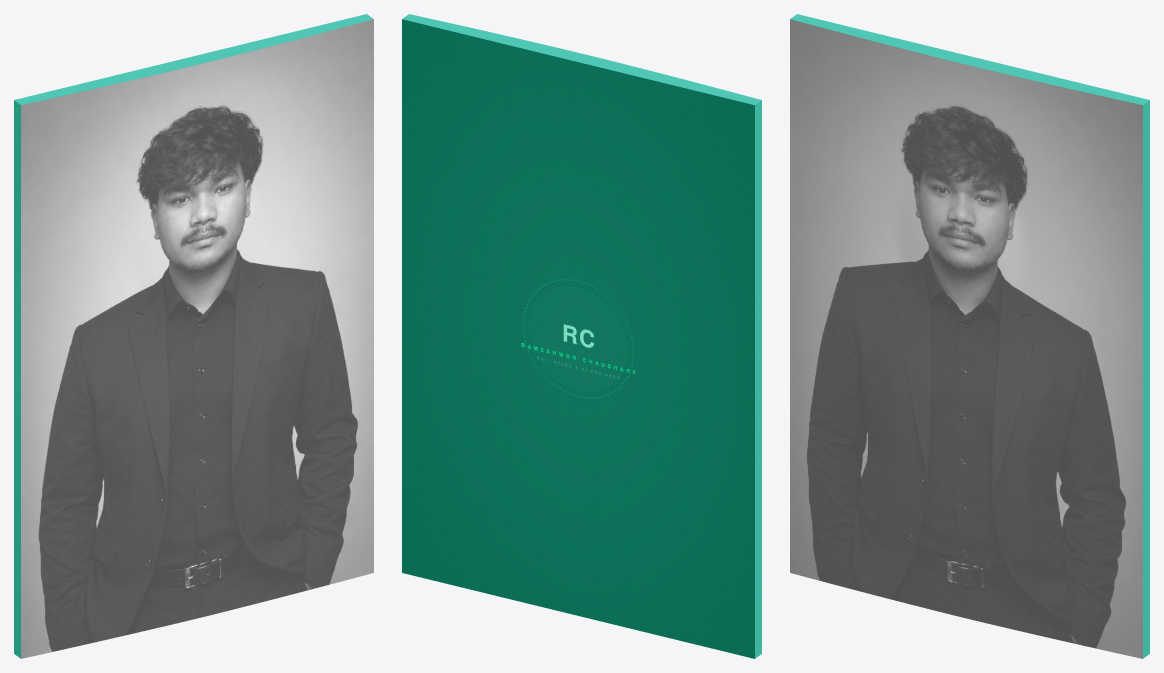
The model's file is rameshwor-portrait-3d.glb.
The picture shows the model from 3 angles, left to right: view 1: azimuth 30°, elevation 25°; view 2: azimuth 150°, elevation 25°; view 3: azimuth 330°, elevation 25°; orthographic projection.
Visible parts, largest first — view 1: Rameshwor3DPortrait; view 2: Rameshwor3DPortrait; view 3: Rameshwor3DPortrait.
Boxes of the visible parts, box(x1,y1,x2,y2) form: Rameshwor3DPortrait: box(14, 14, 373, 658); Rameshwor3DPortrait: box(402, 14, 761, 658); Rameshwor3DPortrait: box(790, 14, 1149, 658).
Bounding box in the file's own units: 6.4 × 9.6 × 0.4445.
3 materials, 2 textured.
